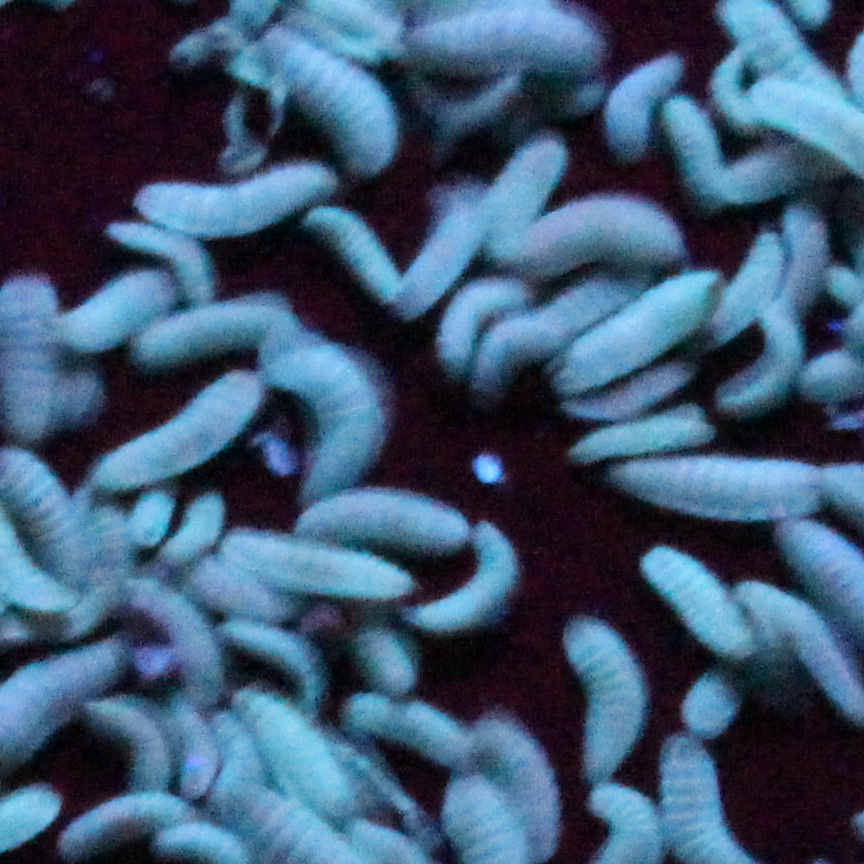larve: (288, 339, 424, 481), (539, 606, 643, 784), (101, 589, 240, 703), (615, 454, 820, 521), (128, 161, 324, 228), (233, 710, 348, 817), (635, 543, 746, 650), (408, 8, 604, 63), (69, 781, 205, 860), (526, 212, 693, 270), (80, 410, 263, 460), (136, 316, 284, 376), (240, 624, 340, 710), (297, 496, 462, 548), (55, 262, 178, 321), (297, 58, 381, 144), (468, 519, 525, 634), (482, 324, 554, 414), (336, 208, 395, 314), (6, 284, 46, 436), (683, 658, 757, 738), (669, 92, 718, 208), (612, 47, 659, 166), (219, 552, 393, 583), (613, 294, 689, 361), (506, 123, 565, 208), (417, 193, 469, 288), (753, 304, 794, 420), (23, 469, 73, 563), (568, 416, 709, 449), (559, 377, 709, 408), (424, 290, 475, 377), (102, 228, 234, 260), (783, 199, 822, 294), (739, 216, 779, 299), (179, 487, 223, 551), (129, 482, 169, 551)
